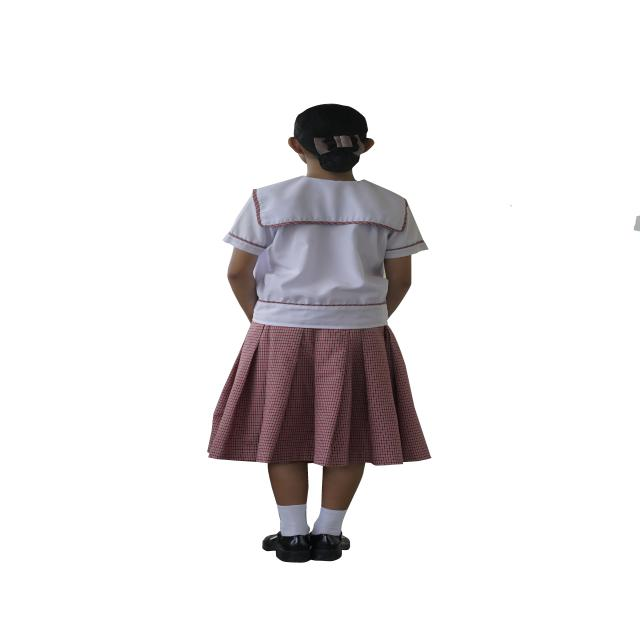pologirl: (223, 177, 427, 329)
shoes: (262, 532, 350, 563)
skirt: (208, 322, 430, 467)
